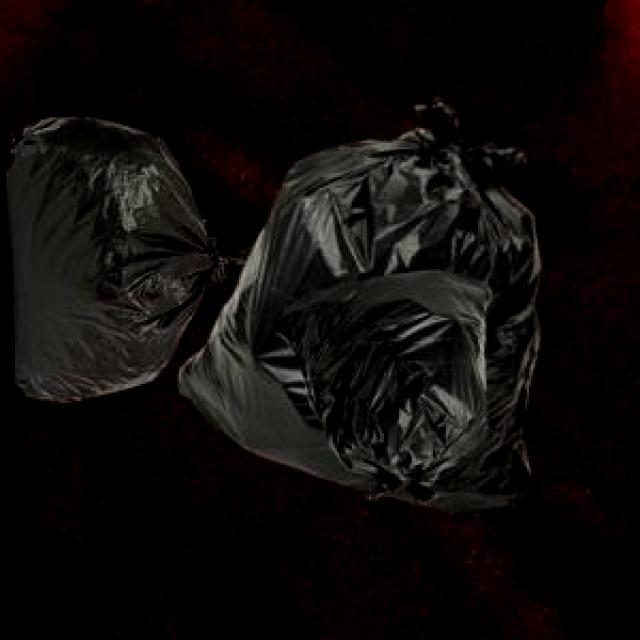Trashbag: (212, 133, 548, 507), (0, 104, 238, 411)
